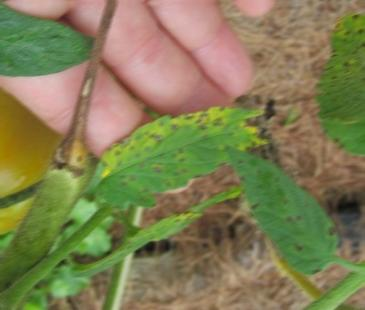Tomato Septoria leaf spot: (90, 98, 269, 207), (218, 140, 334, 270), (316, 9, 365, 156), (0, 0, 92, 78)
